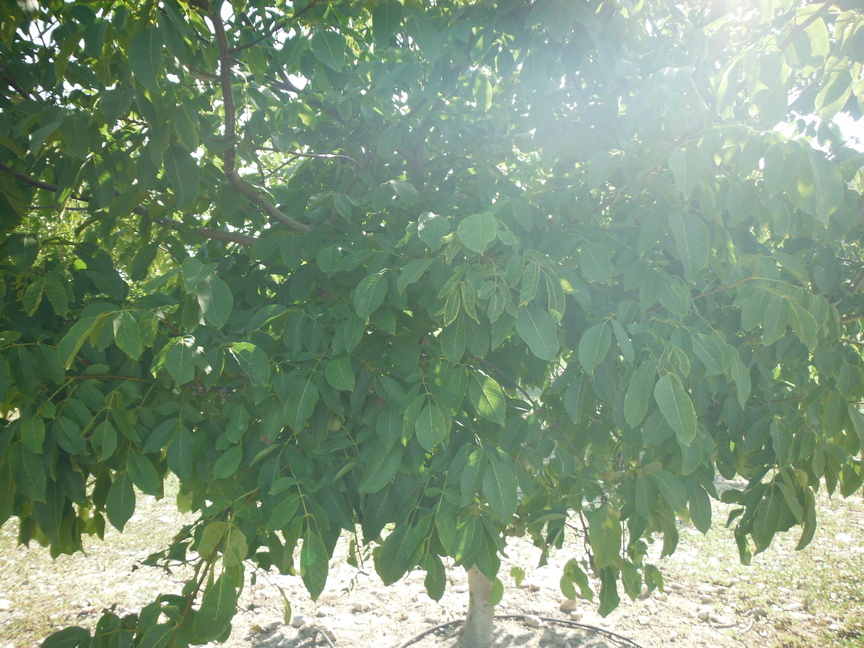walnut: (323, 413, 345, 434), (612, 503, 623, 524), (603, 501, 616, 518), (348, 117, 362, 132), (507, 514, 522, 526), (512, 527, 528, 538), (514, 521, 530, 532), (386, 44, 399, 57), (505, 526, 518, 538), (520, 511, 531, 524)
